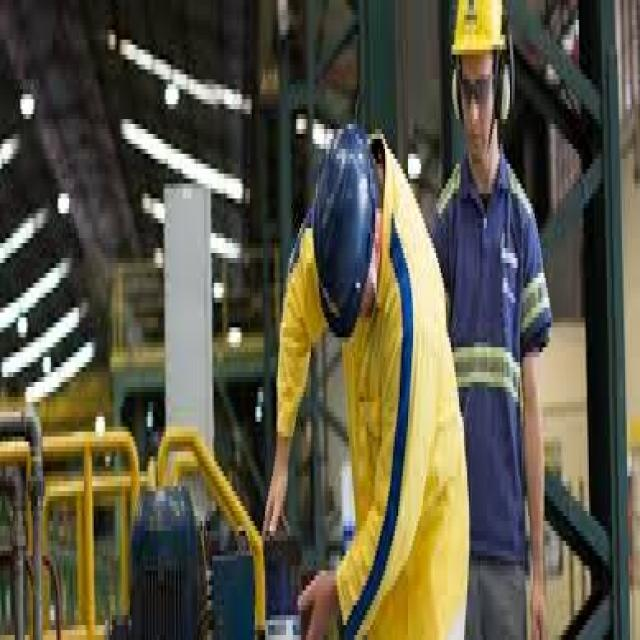reflective_jacket: (332, 162, 470, 639), (429, 158, 551, 600)
safety_helmet: (304, 109, 386, 337), (445, 0, 513, 94)
